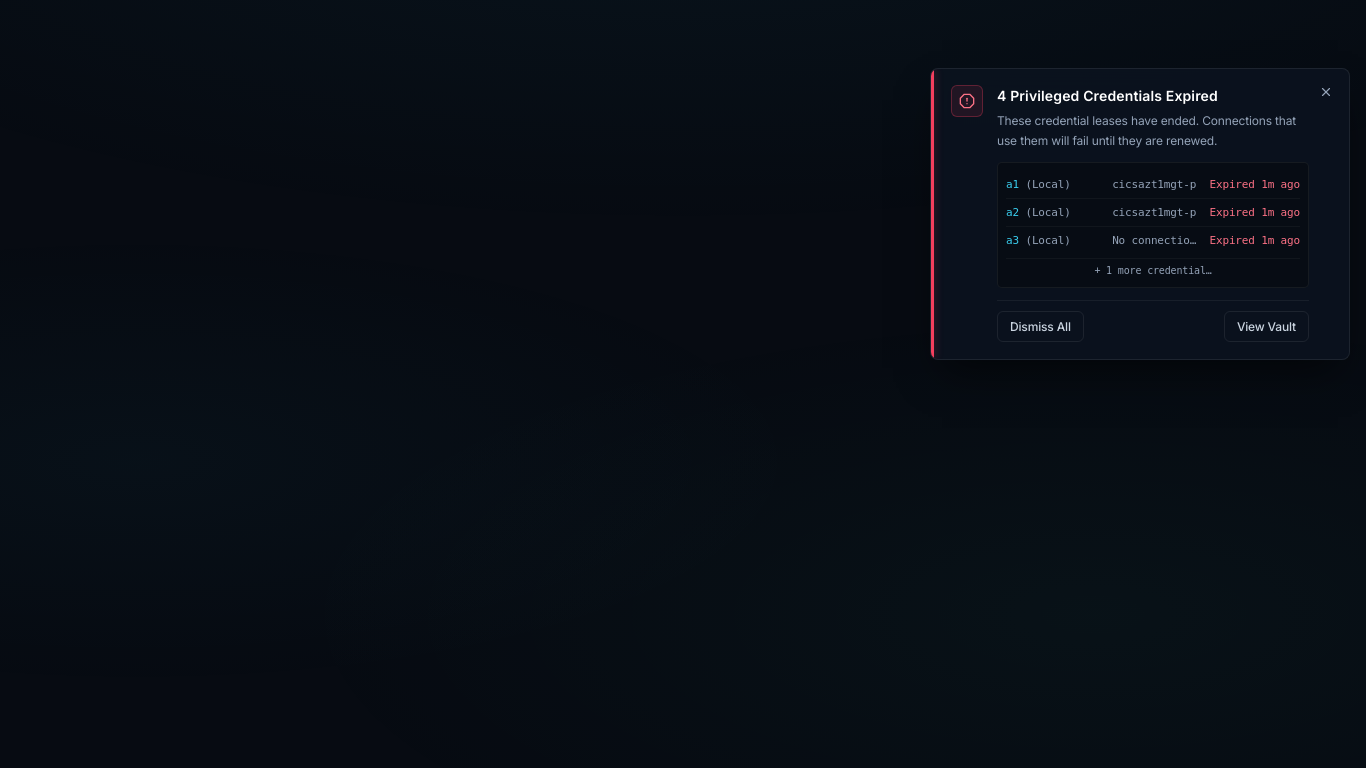
Test: CredentialProfileExpiryWatcher › shows the first three rows and expands the rest inline
The width and height of the screenshot is (1366, 768).
expect the text "4 Privileged Credentials Expired" is shown: met, box x1=997 y1=87 x2=1218 y2=104
expect the text "a4" is not shown: met
Click the button "+ 1 more credential…": (1153, 269) x1=1006 y1=258 x2=1300 y2=279
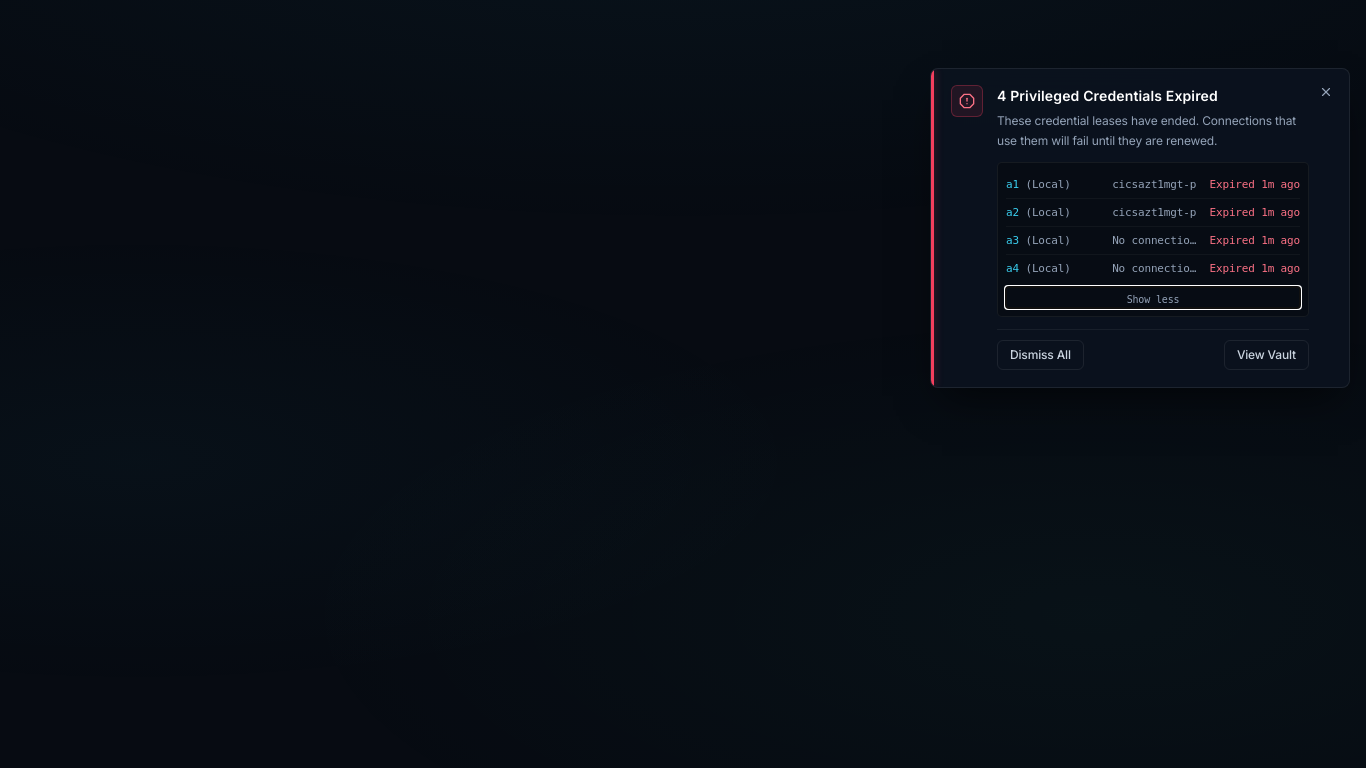
expect the text "a4" is shown: met, box x1=1006 y1=262 x2=1019 y2=275
